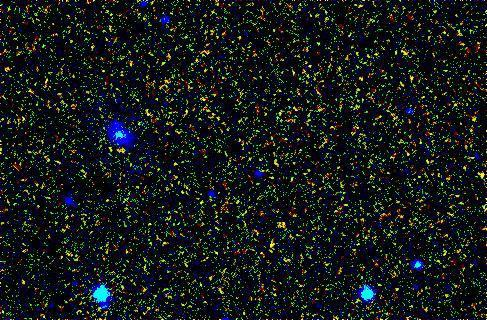star: (106, 132, 136, 162)
